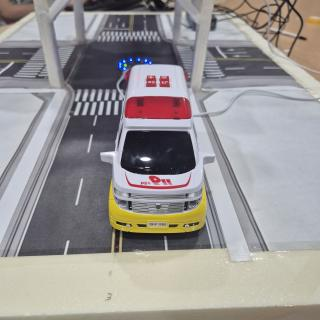Ambulance: (100, 64, 215, 233)
